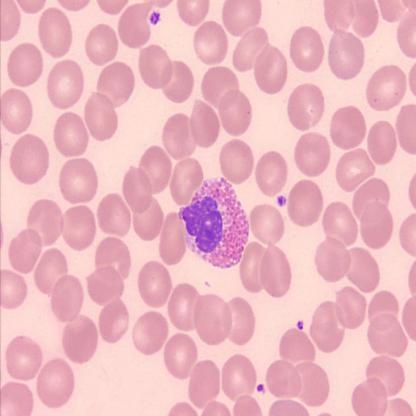Eosinophil: (178, 178, 250, 270)
